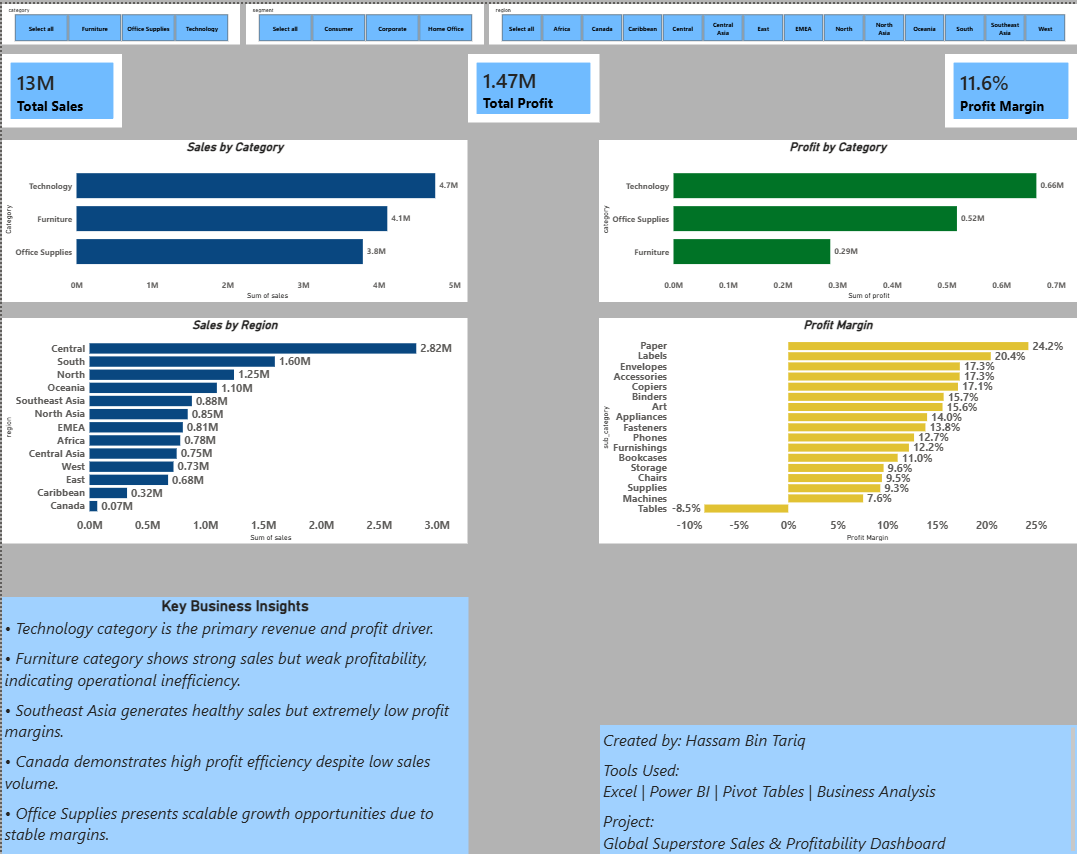

This screenshot's page, from the dashboard's own definition file:
{"tool":"powerbi","page":{"name":"Page 1","canvas":[2150,1700],"ordinal":0},"visuals":[{"type":"cardVisual","fields":{"Data":["Sum(SuperStoreR-D.sales)"]},"box":[0,100,240,147.1],"z":0},{"type":"cardVisual","fields":{"Data":["Sum(SuperStoreR-D.profit)"]},"box":[931.4,100,262.9,137.1],"z":1000},{"type":"cardVisual","fields":{"Data":["SuperStoreR-D.Profit Margin"]},"box":[1885.7,100,264.3,147.1],"z":2000},{"type":"clusteredBarChart","title":"Sales by Category","fields":{"Category":["SuperStoreR-D.category"],"Y":["Sum(SuperStoreR-D.sales)"]},"box":[0,272.9,931.4,324.3],"z":3000},{"type":"clusteredBarChart","title":"Profit by Category","fields":{"Category":["SuperStoreR-D.category"],"Y":["Sum(SuperStoreR-D.profit)"]},"box":[1194.3,272.9,955.7,324.3],"z":4000},{"type":"clusteredBarChart","title":"Sales by Region","fields":{"Category":["SuperStoreR-D.region"],"Y":["Sum(SuperStoreR-D.sales)"]},"box":[0,628.6,931.4,451.4],"z":5000},{"type":"clusteredBarChart","title":"Profit Margin","fields":{"Category":["SuperStoreR-D.sub_category"],"Y":["SuperStoreR-D.Profit Margin"]},"box":[1194.3,628.6,955.7,451.4],"z":6000},{"type":"slicer","fields":{"Values":["SuperStoreR-D.region"]},"box":[974.3,0,1175.7,81.4],"z":7000},{"type":"slicer","fields":{"Values":["SuperStoreR-D.category"]},"box":[0,0,476.2,81.2],"z":8000},{"type":"slicer","fields":{"Values":["SuperStoreR-D.segment"]},"box":[488.8,0,476.2,81.2],"z":9000},{"type":"textbox","title":"Key Business Insights","box":[0,1185,932.5,515],"z":10000},{"type":"textbox","box":[1195,1442.5,955,257.5],"z":11000}]}

Visuals, with their boxes in screenshot pixels (x1, y1, x2, y2), scaled from the page's 2150x1700 canvas onto the 1077x854 screenshot:
cardVisual - Sum(SuperStoreR-D.sales): select_region(0, 50, 120, 124)
cardVisual - Sum(SuperStoreR-D.profit): select_region(467, 50, 598, 119)
cardVisual - SuperStoreR-D.Profit Margin: select_region(945, 50, 1076, 124)
"Sales by Category" clusteredBarChart: select_region(0, 137, 467, 300)
"Profit by Category" clusteredBarChart: select_region(598, 137, 1076, 300)
"Sales by Region" clusteredBarChart: select_region(0, 316, 467, 543)
"Profit Margin" clusteredBarChart: select_region(598, 316, 1076, 543)
slicer - SuperStoreR-D.region: select_region(488, 0, 1076, 41)
slicer - SuperStoreR-D.category: select_region(0, 0, 239, 41)
slicer - SuperStoreR-D.segment: select_region(245, 0, 483, 41)
"Key Business Insights" textbox: select_region(0, 595, 467, 853)
textbox: select_region(599, 725, 1076, 853)
